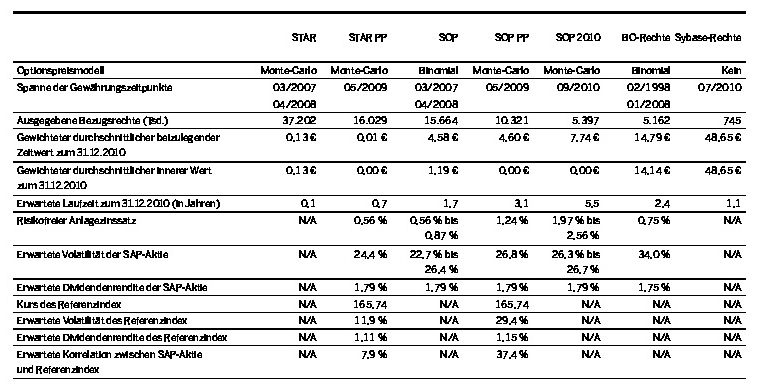table: (0, 0, 767, 392)
